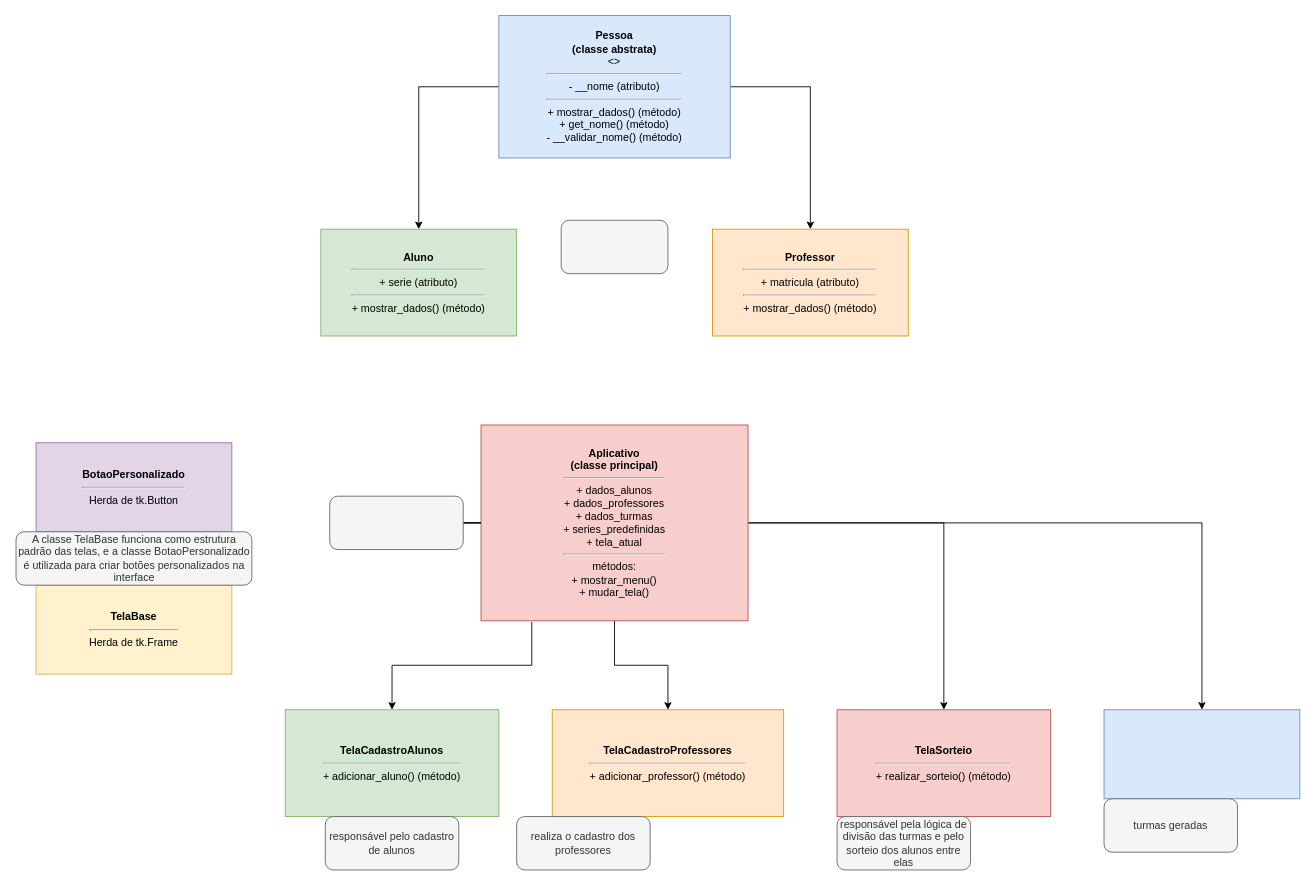
Image size: 1315x886. Some labels were removed from this diagram. The centre of each missing label's shape, as x and y in pixels:
"classes filhas através da herança" belongs at (614,246).
"controla toda a execução da aplicação e o gerenciamento das telas" belongs at (396,522).
"TelaTurmas" belongs at (1201,754).
